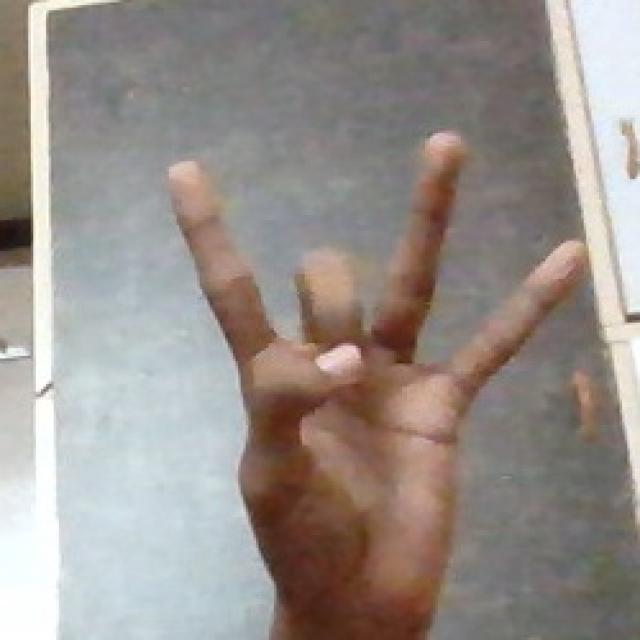Numeric-8: (167, 132, 586, 624)
